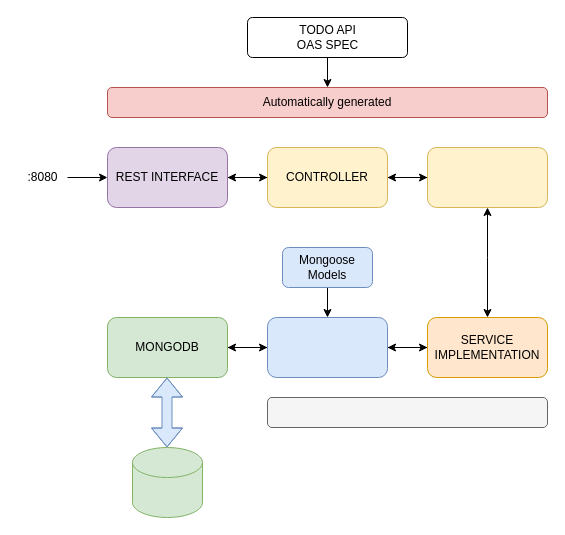
Image size: 565x535. Some labels were removed from this diagram. Here are the shapes that lost their labels. From the top down, the centre of each, then its label:
(x=487, y=177): SERVICE
(x=327, y=347): mongoose
(x=407, y=412): handcrafted
